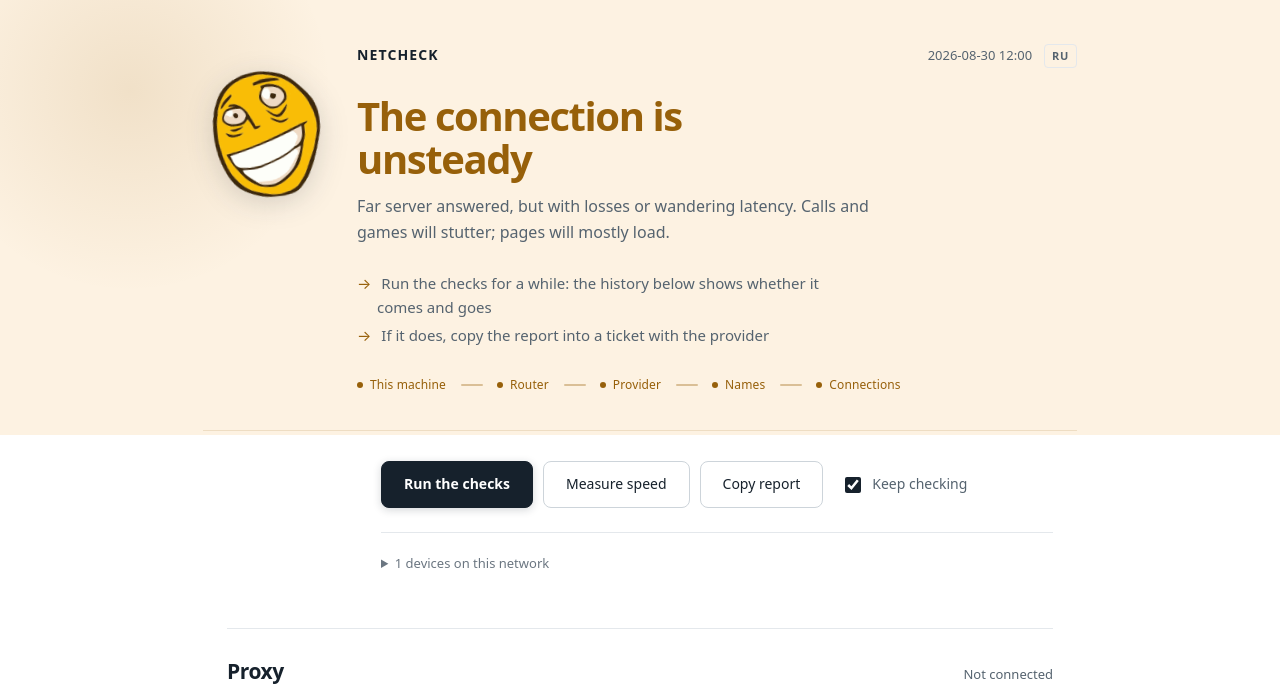
it: the page › says when it does not know who made a device
This screenshot has width=1280, height=694.
Expected: the heading "The connection is unsteady" is shown, [357,88,682,186]
Step 1. Click the heading "1 devices on this network" → [472, 563], box [395,554,549,572]
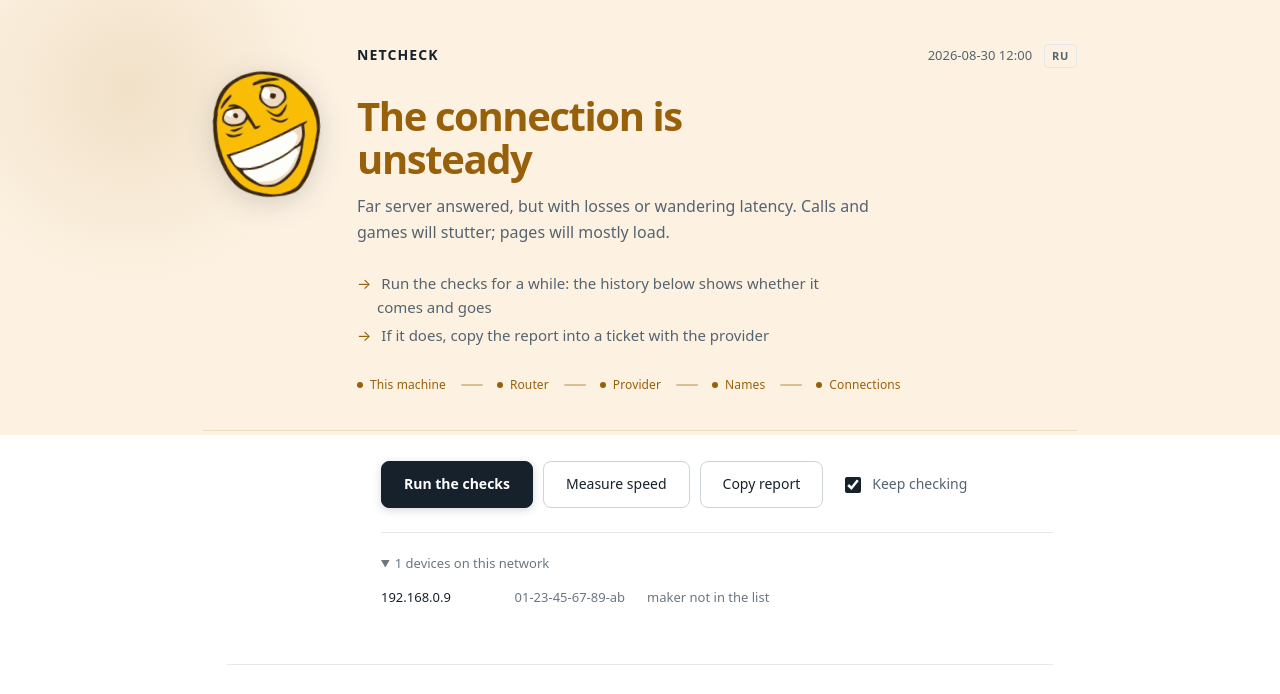
Now the text "maker not in the list" is shown, box [647,586,769,607]
